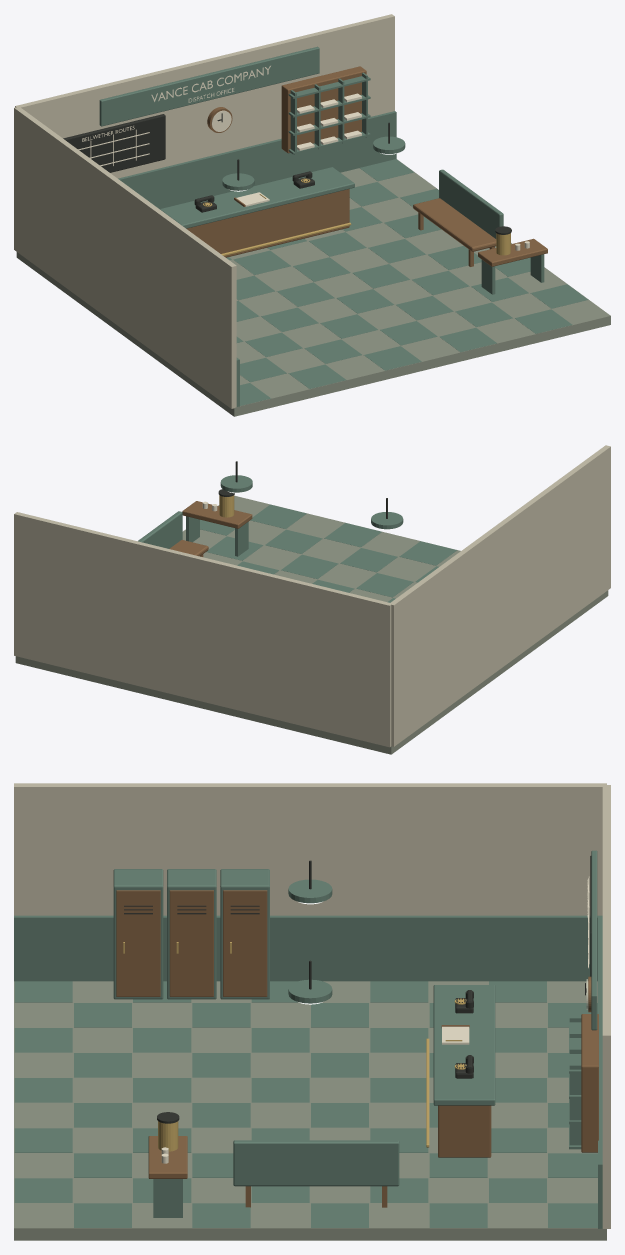
The model's file is interior-cabstand.glb.
3 renders of one model, top to bottom at view 1: azimuth 30°, elevation 25°; view 2: azimuth 150°, elevation 25°; view 3: azimuth 270°, elevation 25°, orthographic. The views are drawn at different scales.
Visible parts, largest first — view 1: side plaster, worn floor tile, office foundation, rear plaster, rear dado, dispatch counter, route board, fare pigeonholes, route north-south, counter brass footrail, telephone base; view 2: rear plaster, side plaster, office foundation, worn floor tile, dispatch counter; view 3: worn floor tile, side plaster, office foundation, side dado, dispatch counter, rear dado, rear plaster, fare pigeonholes, telephone base, counter brass footrail, fare ledger.
Boxes of the visible parts, x1,y1,x2,y2 form: side plaster: (14, 106, 236, 408); worn floor tile: (160, 136, 588, 405); office foundation: (16, 159, 610, 416); rear plaster: (15, 14, 394, 178); rear dado: (99, 46, 396, 209); dispatch counter: (186, 189, 547, 266); route board: (63, 113, 222, 172); fare pigeonholes: (207, 66, 366, 153); route north-south: (78, 93, 361, 165); counter brass footrail: (203, 178, 510, 255); telephone base: (194, 122, 511, 234); rear plaster: (14, 512, 392, 747); side plaster: (390, 445, 610, 746); office foundation: (15, 495, 608, 754); worn floor tile: (138, 475, 456, 602); dispatch counter: (169, 501, 252, 556); worn floor tile: (14, 869, 597, 1227); side plaster: (14, 783, 606, 915); office foundation: (14, 981, 606, 1240); side dado: (14, 915, 601, 981); dispatch counter: (116, 890, 491, 1207); rear dado: (569, 850, 602, 1228); rear plaster: (602, 785, 610, 1228); fare pigeonholes: (581, 976, 598, 1152); telephone base: (124, 860, 473, 1123); counter brass footrail: (123, 942, 466, 1151); fare ledger: (161, 1026, 469, 1163).
Size of the model in its own units: 10.07 by 3.81 by 10.07.
